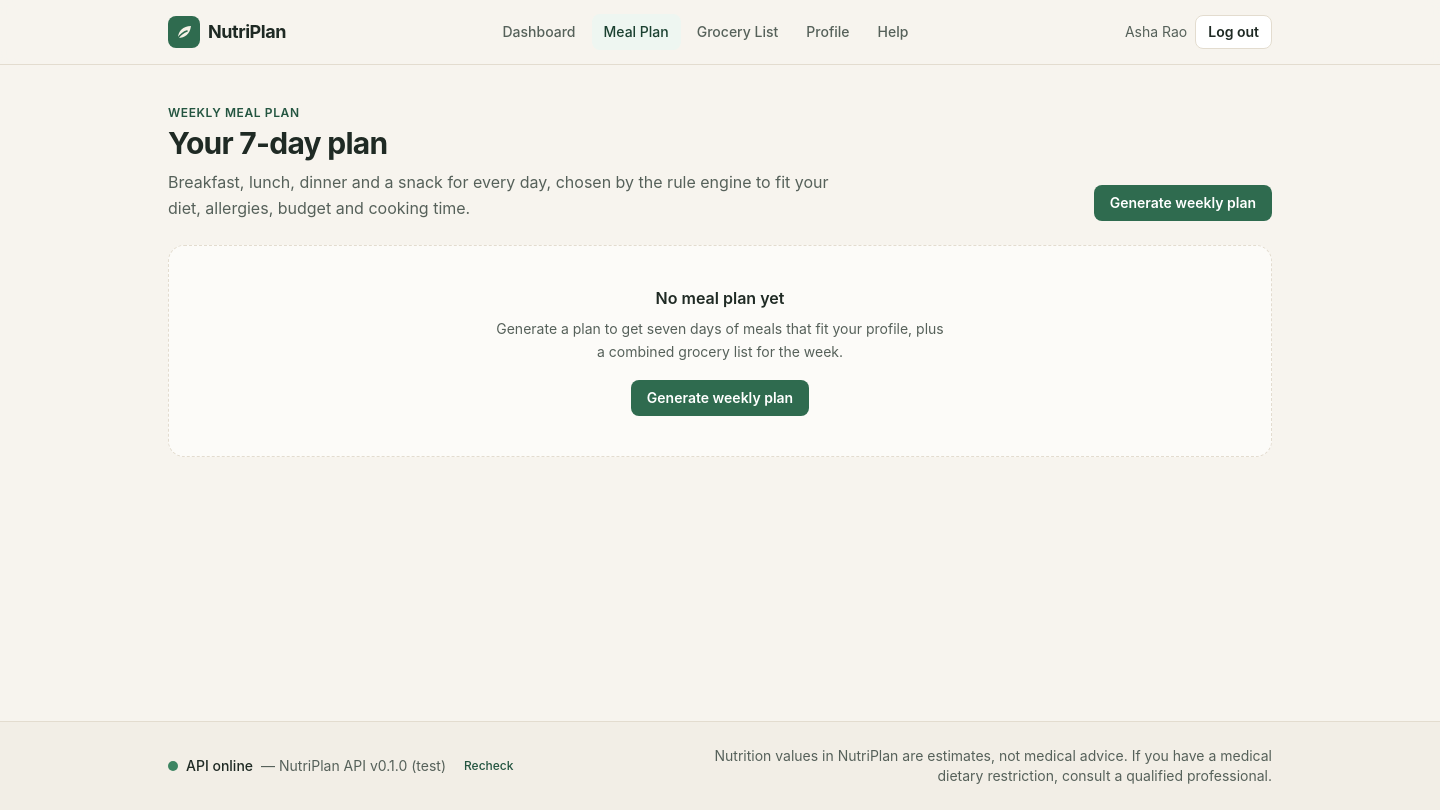
Scenario: Weekly meal plan (UC-06, UC-07) › explains an infeasible budget
Click the 1st button "Generate weekly plan" at (1183, 203), box [1094,185,1272,221]
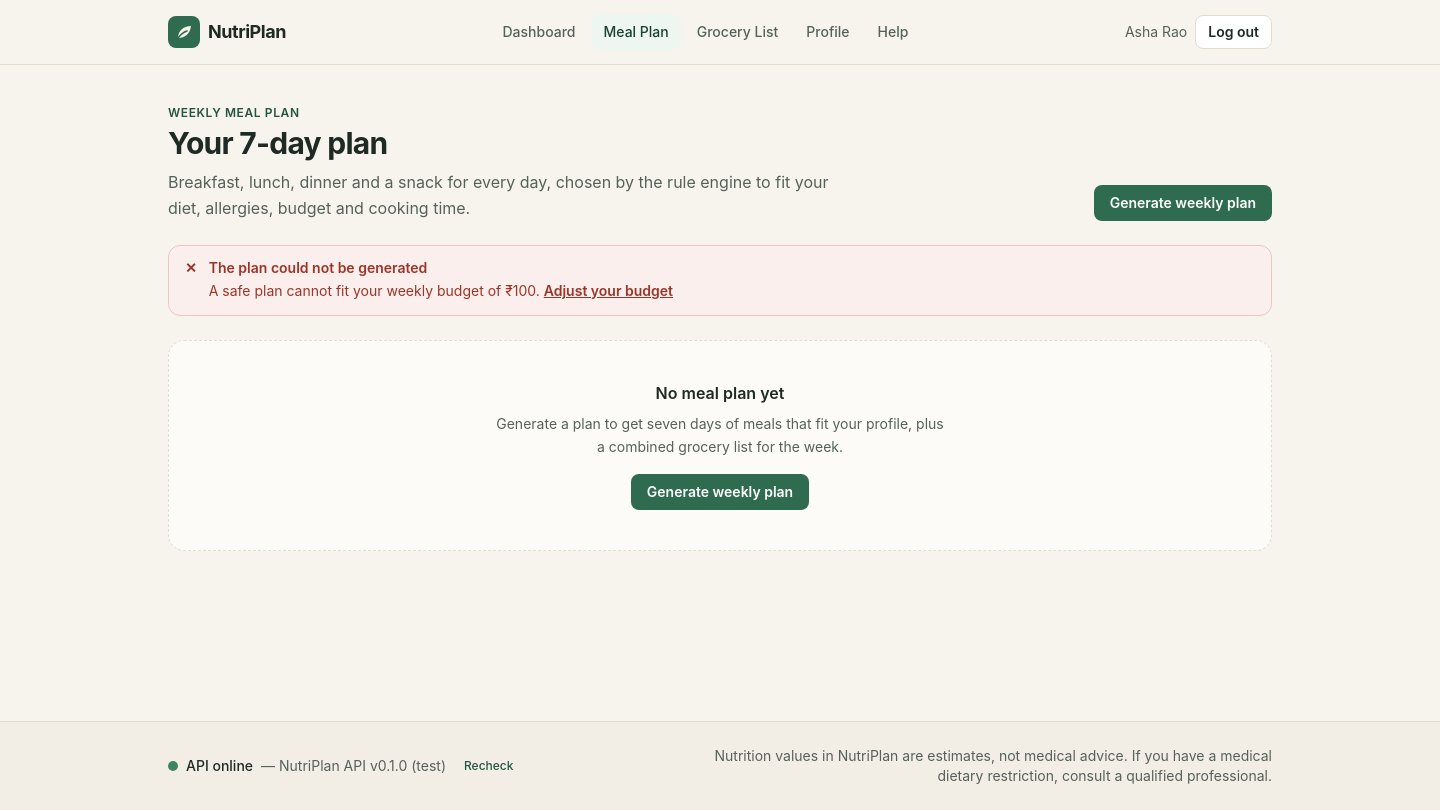
Expected: the text "cannot fit your weekly budget" is shown, [209,282,540,299]
